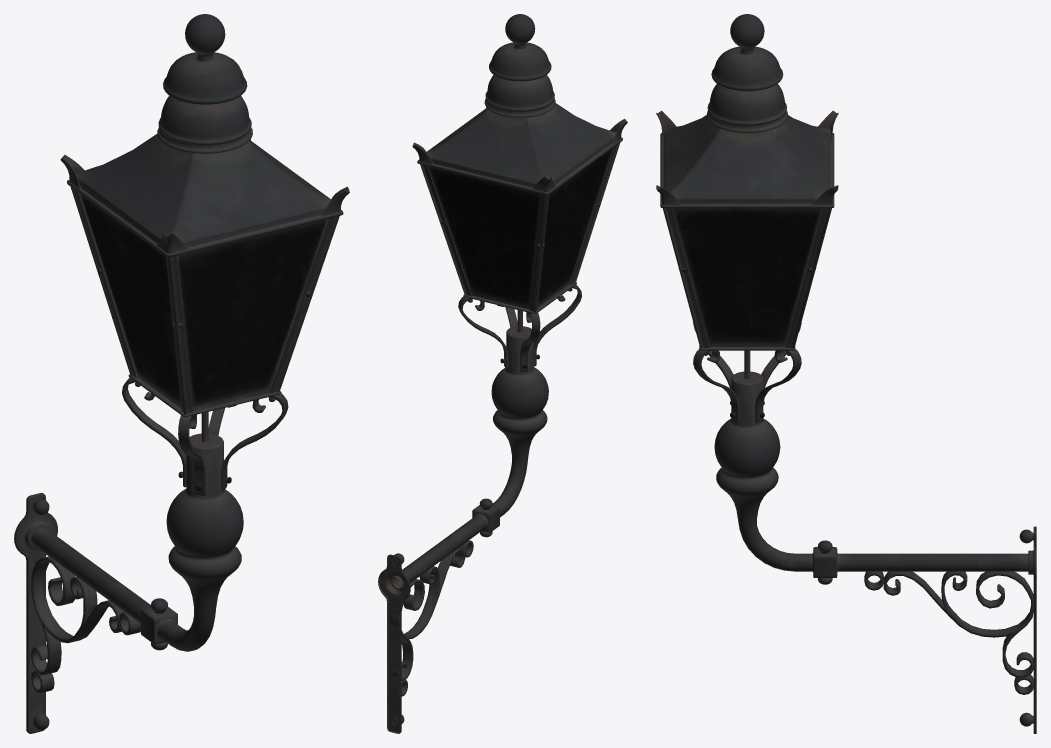
3 views of the same model, side by side, from view 1: azimuth 30°, elevation 25°; view 2: azimuth 150°, elevation 25°; view 3: azimuth 270°, elevation 25° (orthographic). The views are drawn at different scales.
Parts seen in each view (by area): view 1: street_lamp_02; view 2: street_lamp_02; view 3: street_lamp_02.
Part boxes in pixels (left/top/right/bottom): street_lamp_02: left=14, top=14, right=349, bottom=733; street_lamp_02: left=378, top=14, right=627, bottom=733; street_lamp_02: left=656, top=14, right=1036, bottom=733.
Bounding box in the file's own units: 0.3865 × 1.68 × 0.8068.
Materials: 3 (3 with a texture image).
